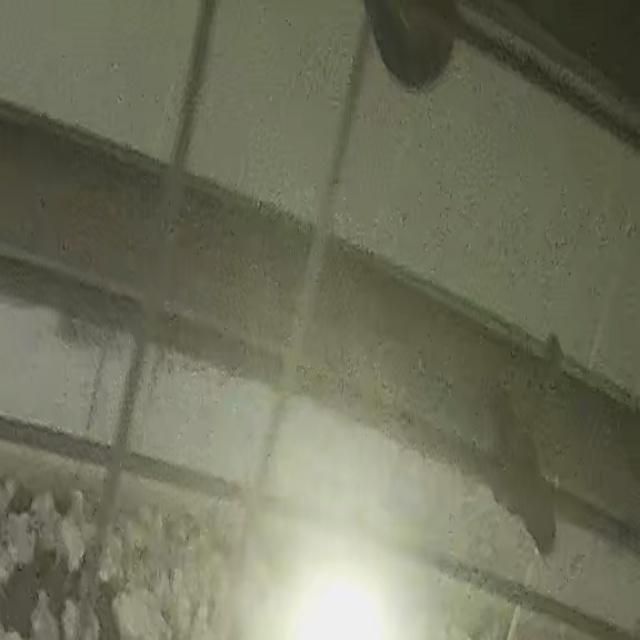chicken: (114, 586, 175, 640), (61, 494, 93, 572), (30, 487, 62, 551), (31, 589, 62, 640), (6, 514, 34, 565), (64, 597, 97, 640)
